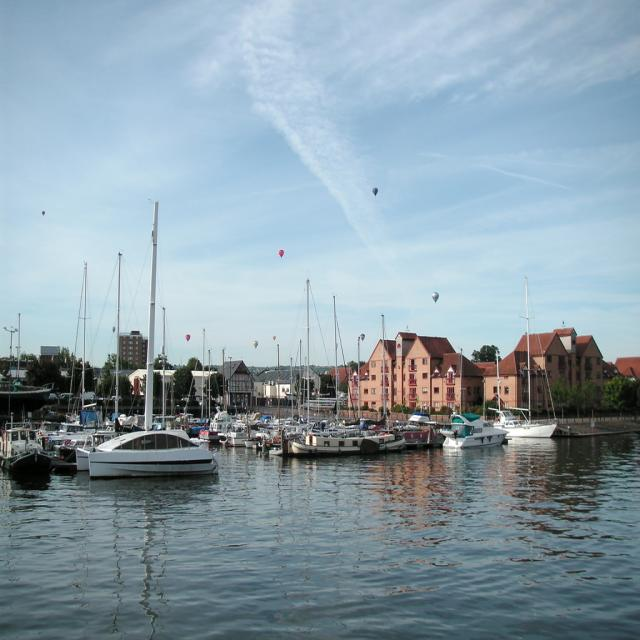Boat: (0, 202, 566, 487), (83, 195, 219, 481)
